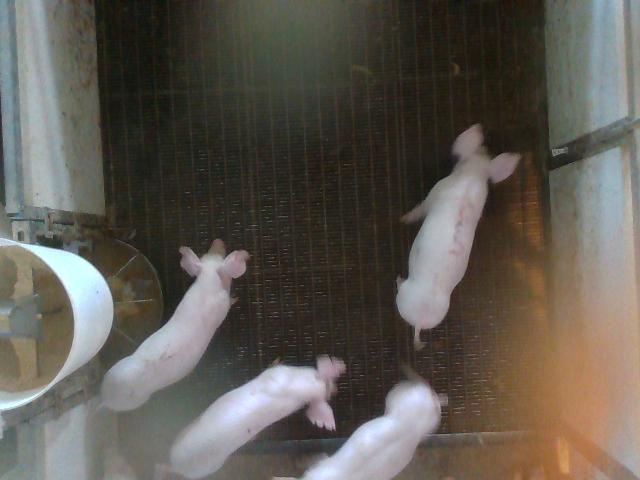pig-3: (396, 124, 521, 346)
